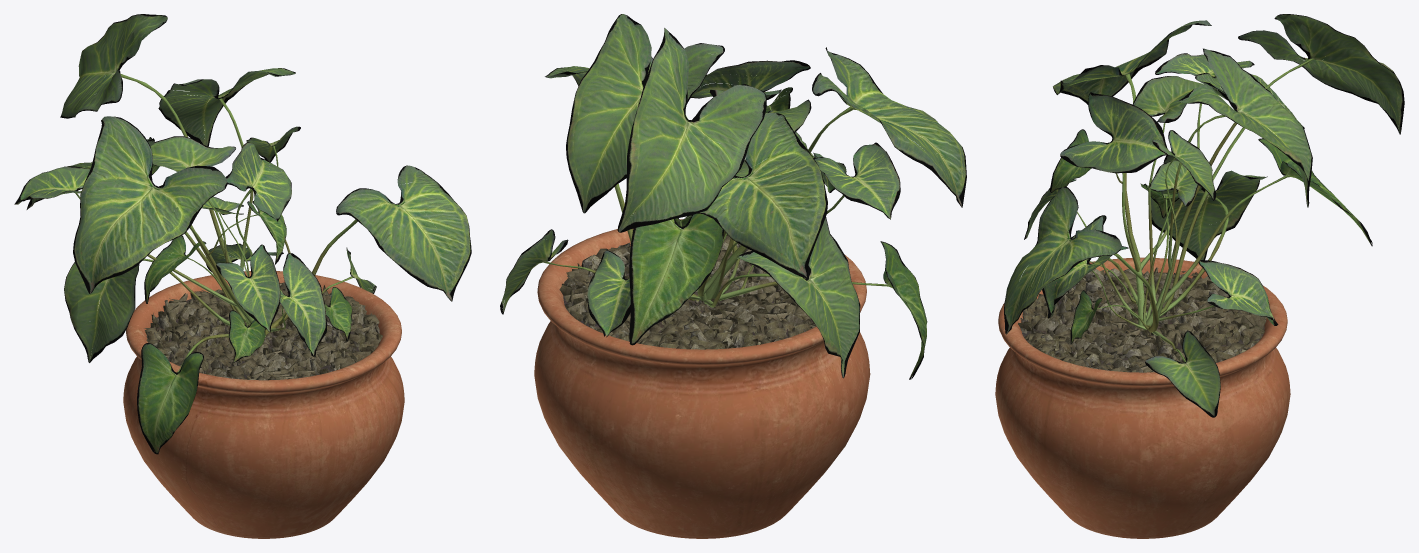
Rendered from web.glb.
The picture shows the model from 3 angles, left to right: view 1: azimuth 30°, elevation 25°; view 2: azimuth 150°, elevation 25°; view 3: azimuth 270°, elevation 25°; orthographic projection. The views are drawn at different scales.
Visible parts, largest first — view 1: potted_plant_02_leaves, potted_plant_02_pot, potted_plant_02_dirt; view 2: potted_plant_02_leaves, potted_plant_02_pot, potted_plant_02_dirt; view 3: potted_plant_02_leaves, potted_plant_02_pot, potted_plant_02_dirt.
Part boxes in pixels (box(x1,y1,x2,y2)): potted_plant_02_leaves: box(14, 14, 471, 454); potted_plant_02_pot: box(123, 271, 404, 538); potted_plant_02_dirt: box(144, 282, 382, 380); potted_plant_02_leaves: box(500, 14, 966, 379); potted_plant_02_pot: box(534, 219, 870, 538); potted_plant_02_dirt: box(559, 234, 816, 349); potted_plant_02_leaves: box(1004, 14, 1404, 417); potted_plant_02_pot: box(995, 257, 1290, 538); potted_plant_02_dirt: box(1018, 267, 1266, 372).
Size of the model in its own units: 0.701 by 0.8412 by 0.6574.
2 materials, 2 textured.
